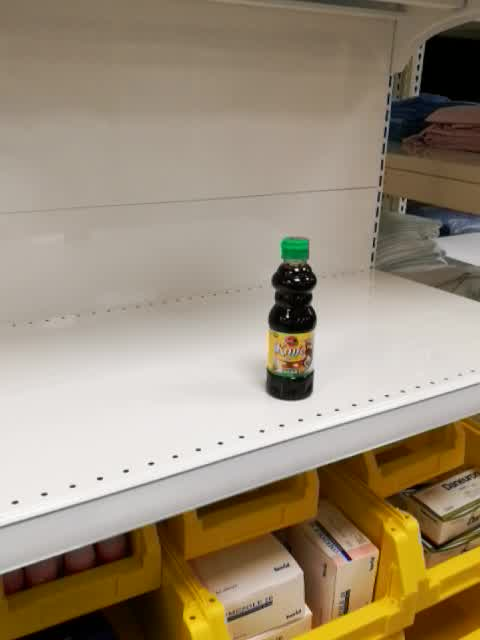cookingoil: (263, 234, 318, 402)
